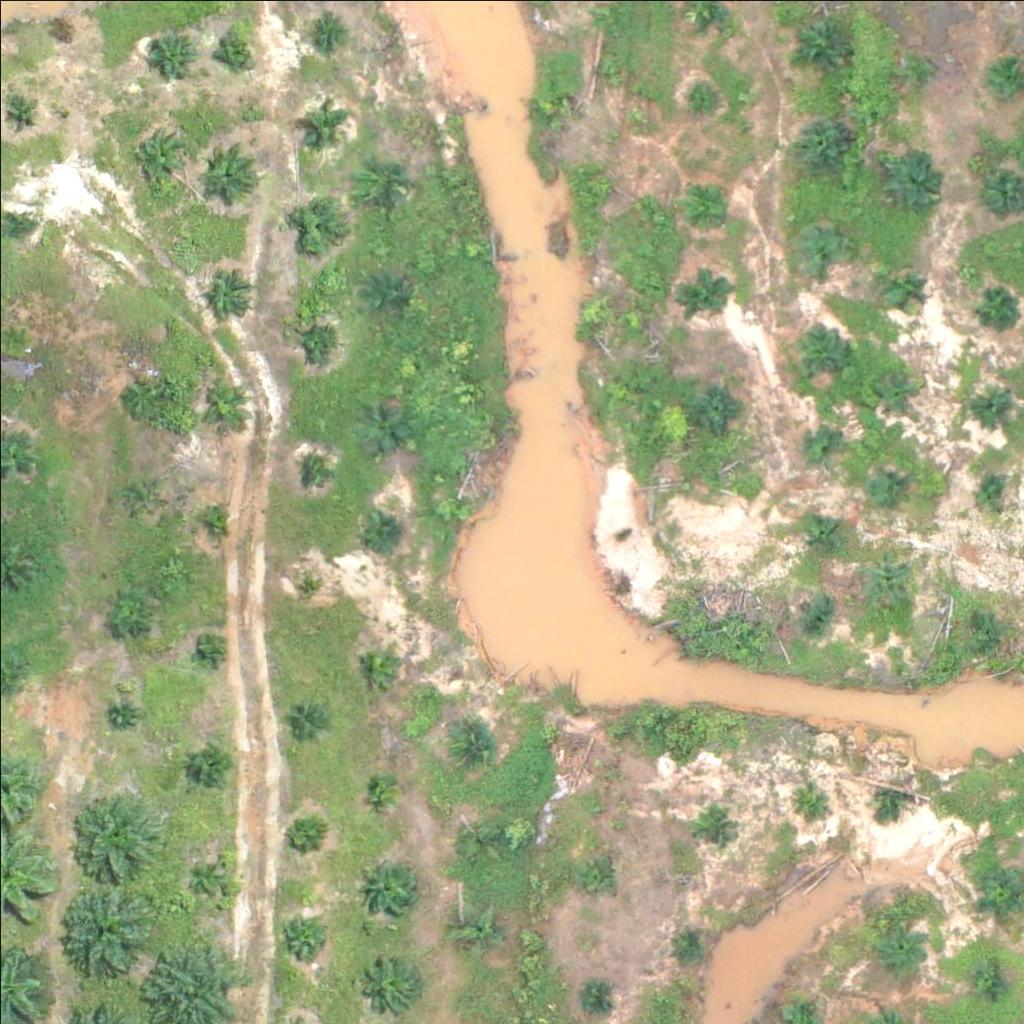Kelapa_Sawit: (70, 794, 158, 882), (58, 886, 146, 974), (884, 149, 947, 212), (787, 213, 850, 276), (129, 124, 192, 187), (357, 853, 419, 916), (196, 142, 258, 205), (793, 118, 843, 169), (794, 15, 844, 66), (112, 371, 162, 422), (366, 962, 416, 1013), (199, 377, 249, 428), (353, 638, 403, 689), (450, 905, 500, 956), (969, 283, 1019, 334), (792, 328, 842, 378), (874, 922, 924, 972), (291, 307, 341, 357), (293, 198, 343, 248), (204, 265, 254, 315), (144, 29, 194, 79), (679, 264, 729, 314), (681, 174, 731, 224), (104, 583, 154, 633), (185, 743, 235, 793), (357, 399, 407, 449), (688, 379, 738, 429), (182, 852, 232, 902), (277, 916, 327, 966), (355, 148, 405, 198), (306, 105, 344, 143), (305, 14, 343, 52), (218, 31, 256, 69), (592, 54, 630, 92), (582, 167, 620, 205), (576, 292, 614, 330), (365, 510, 403, 548), (967, 963, 1005, 1001), (966, 474, 1004, 512), (798, 432, 836, 470), (798, 519, 836, 557), (799, 594, 837, 632), (529, 92, 566, 130), (121, 474, 159, 511), (362, 767, 400, 804), (366, 272, 403, 310), (572, 979, 610, 1016), (697, 803, 734, 841), (455, 821, 493, 858), (283, 818, 320, 856), (793, 779, 830, 817), (970, 391, 1008, 428), (956, 594, 993, 632), (871, 557, 908, 595), (866, 465, 903, 503), (876, 369, 913, 407), (895, 52, 932, 90), (683, 74, 720, 111), (287, 695, 324, 732), (455, 723, 492, 760), (675, 931, 712, 968), (578, 853, 615, 890), (885, 266, 922, 303), (882, 785, 907, 811), (6, 210, 31, 235), (198, 637, 223, 662), (205, 507, 230, 532), (293, 568, 318, 593), (299, 456, 324, 481), (111, 701, 135, 726)
